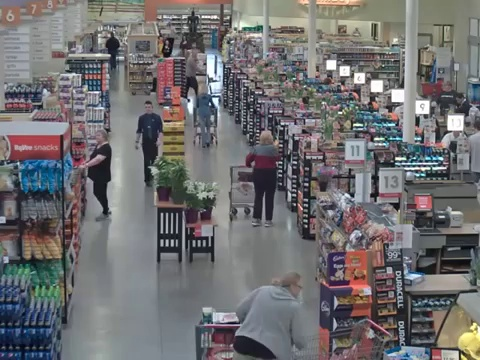face: (95, 132, 103, 142), (144, 104, 152, 113)
